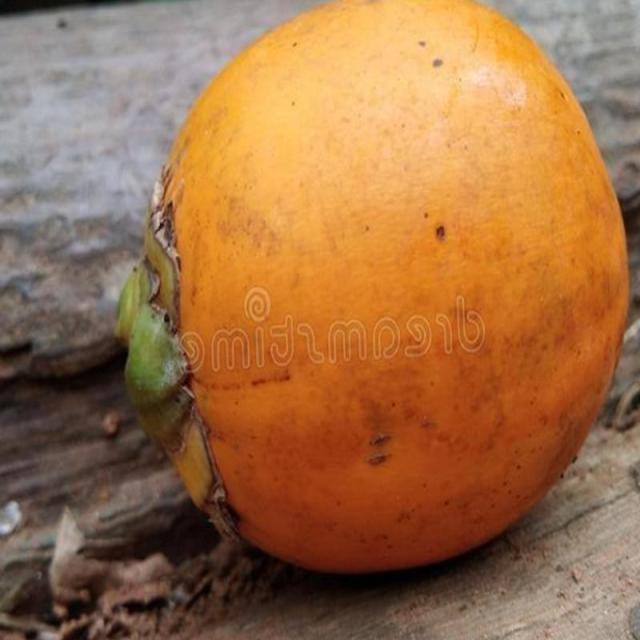good: (114, 0, 630, 579)
